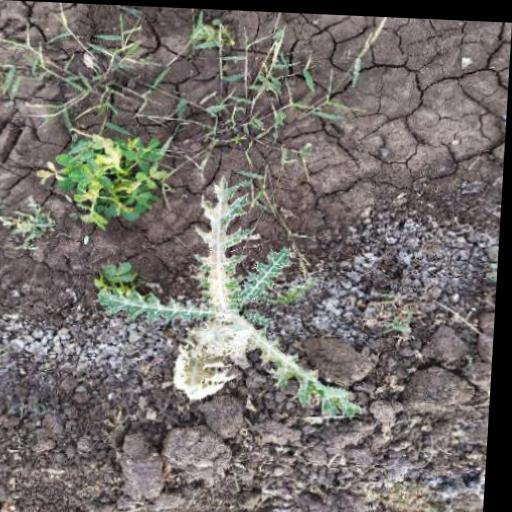weed: (81, 187, 392, 420), (16, 17, 339, 225)
